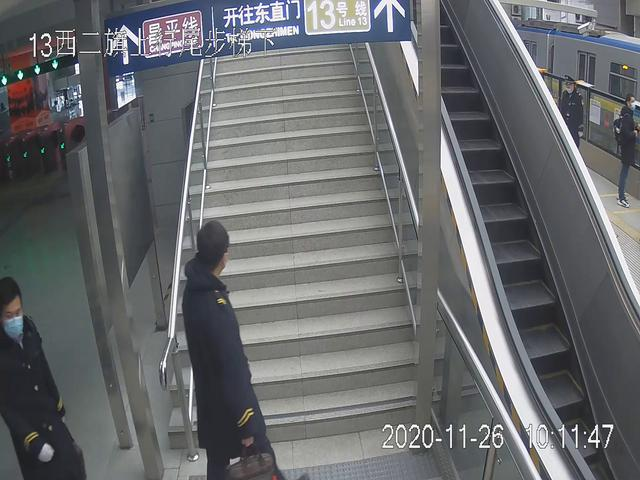person: (179, 219, 301, 480), (1, 269, 87, 480)
